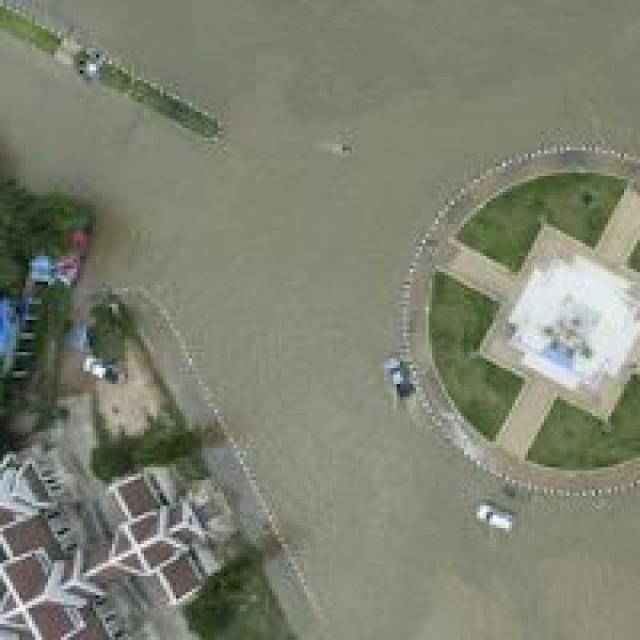flooded_areas: (67, 0, 634, 627)
